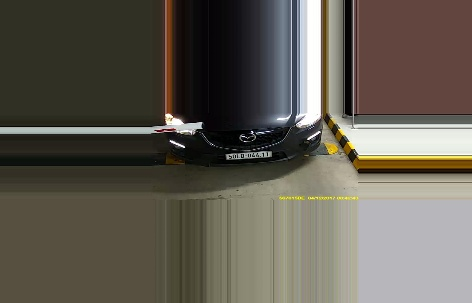plate: (226, 148, 276, 160)
